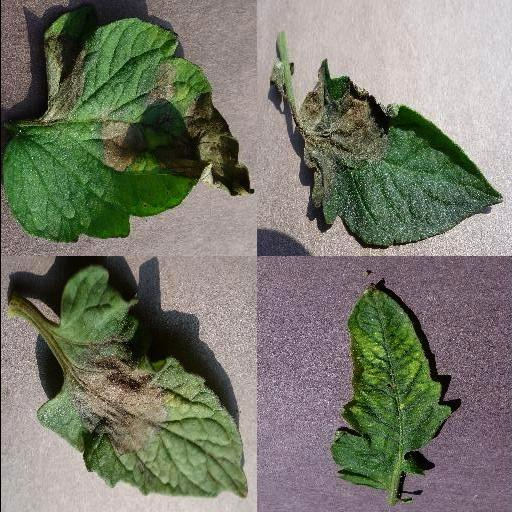Late Blight: (0, 4, 256, 244), (34, 264, 250, 500), (295, 56, 505, 248)
Mosaic Virus: (329, 281, 451, 491)
